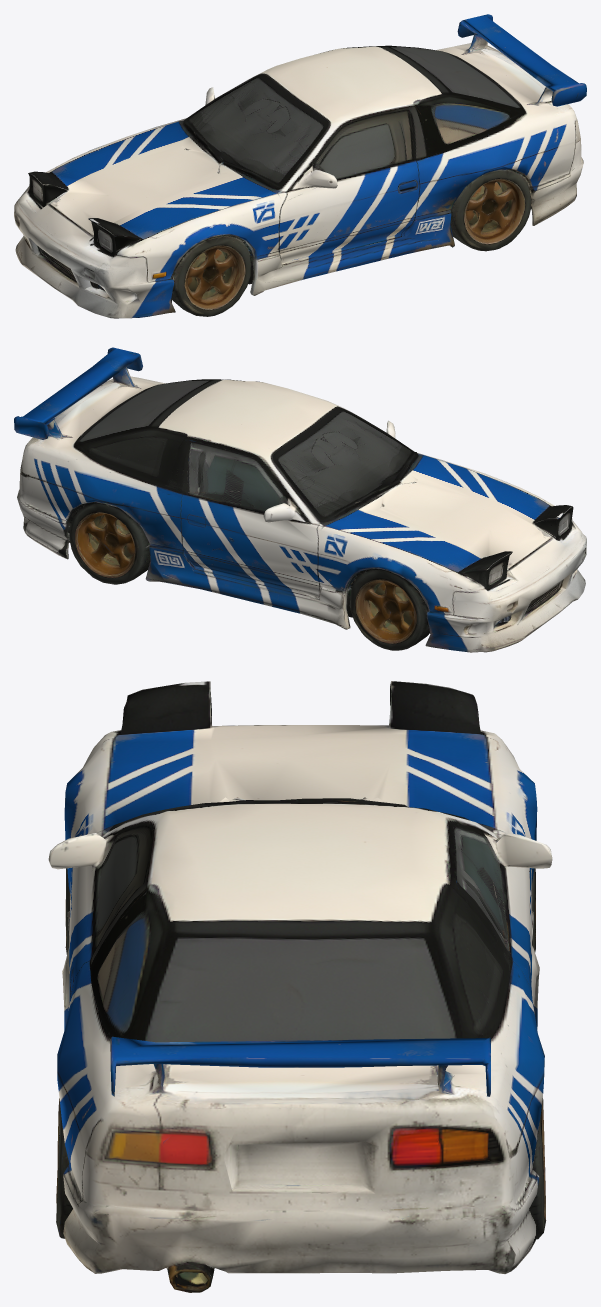
File: car_katana.glb
The picture shows the model from 3 angles, top to bottom: view 1: azimuth 30°, elevation 25°; view 2: azimuth 150°, elevation 25°; view 3: azimuth 270°, elevation 25°; orthographic projection. The views are drawn at different scales.
Visible parts, largest first — view 1: Mesh_0; view 2: Mesh_0; view 3: Mesh_0.
Boxes of the visible parts, bbox=[...] form: Mesh_0: bbox=[14, 14, 586, 318]; Mesh_0: bbox=[14, 347, 586, 652]; Mesh_0: bbox=[48, 681, 552, 1292].
Bounding box in the file's own units: 1.9 × 0.5537 × 0.8314.
1 material, 1 textured.
